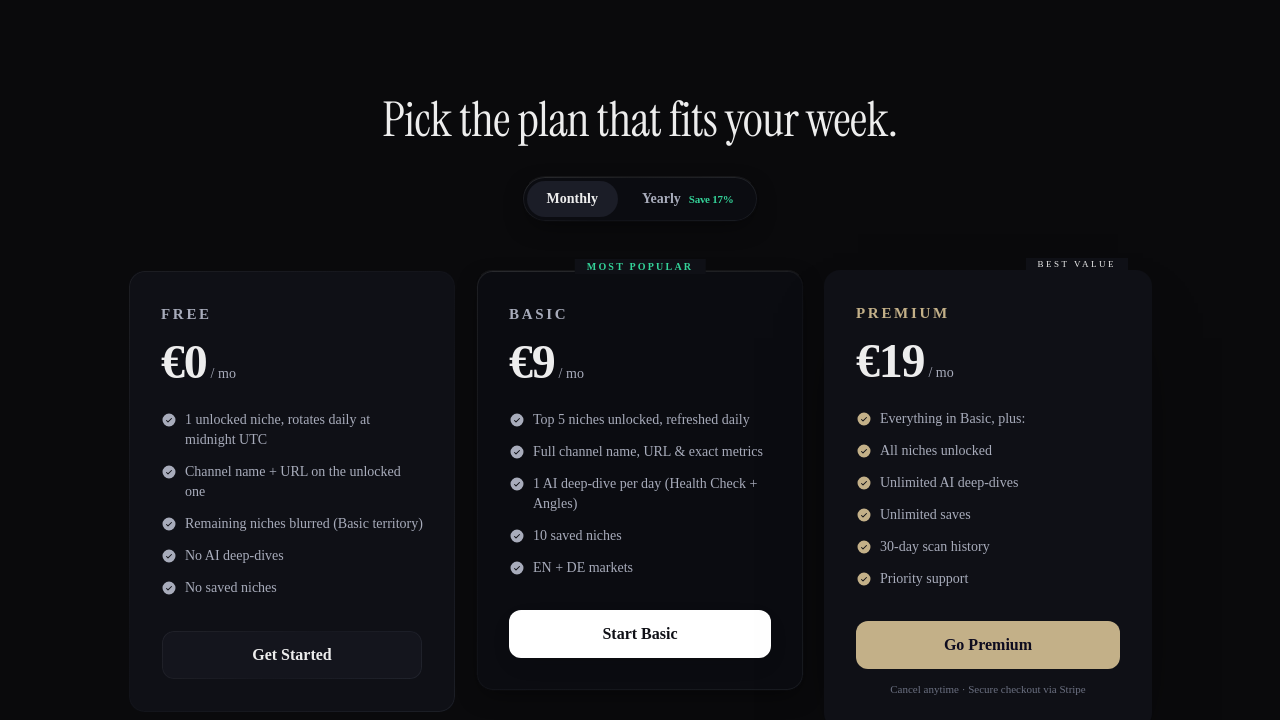
Test: PricingSection › shows yearly prices after switching to Yearly
Click the button "Yearly Save 17%": point(688, 199) [622,181,753,217]
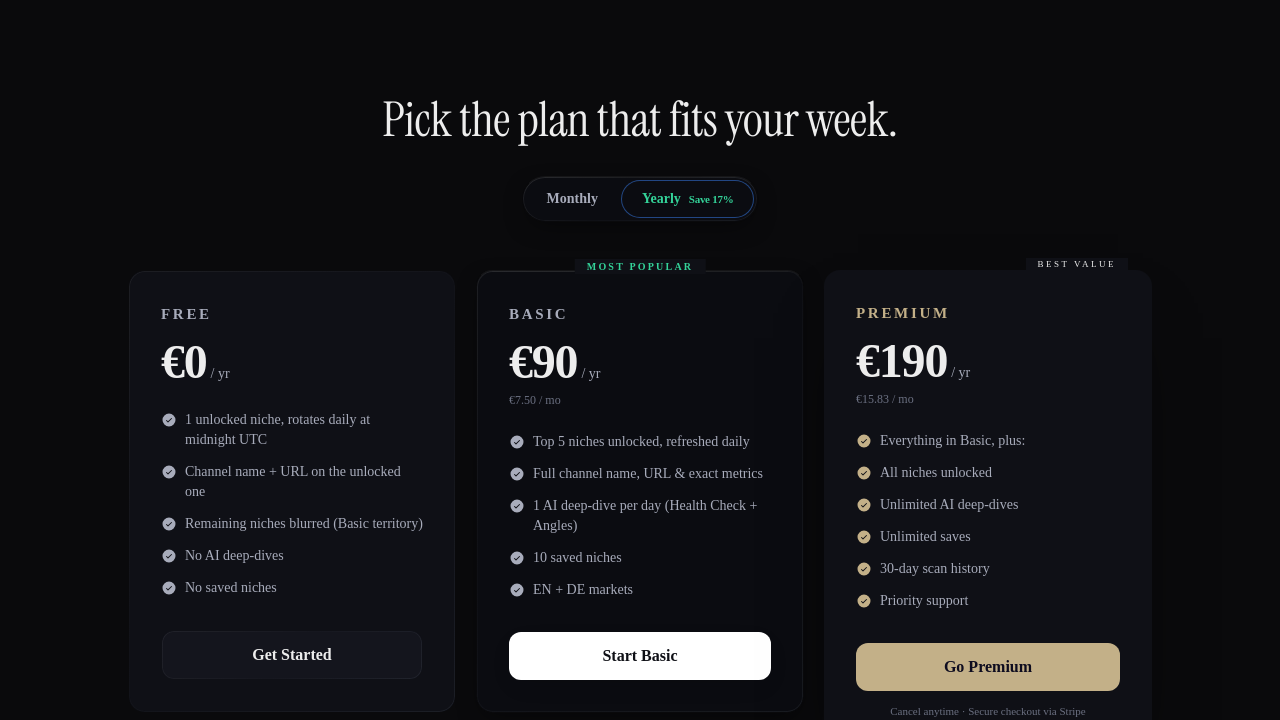
Check: the text "€90" is shown, box [509,338,577,386]
Check: the text "€190" is shown, box [856,336,947,384]
